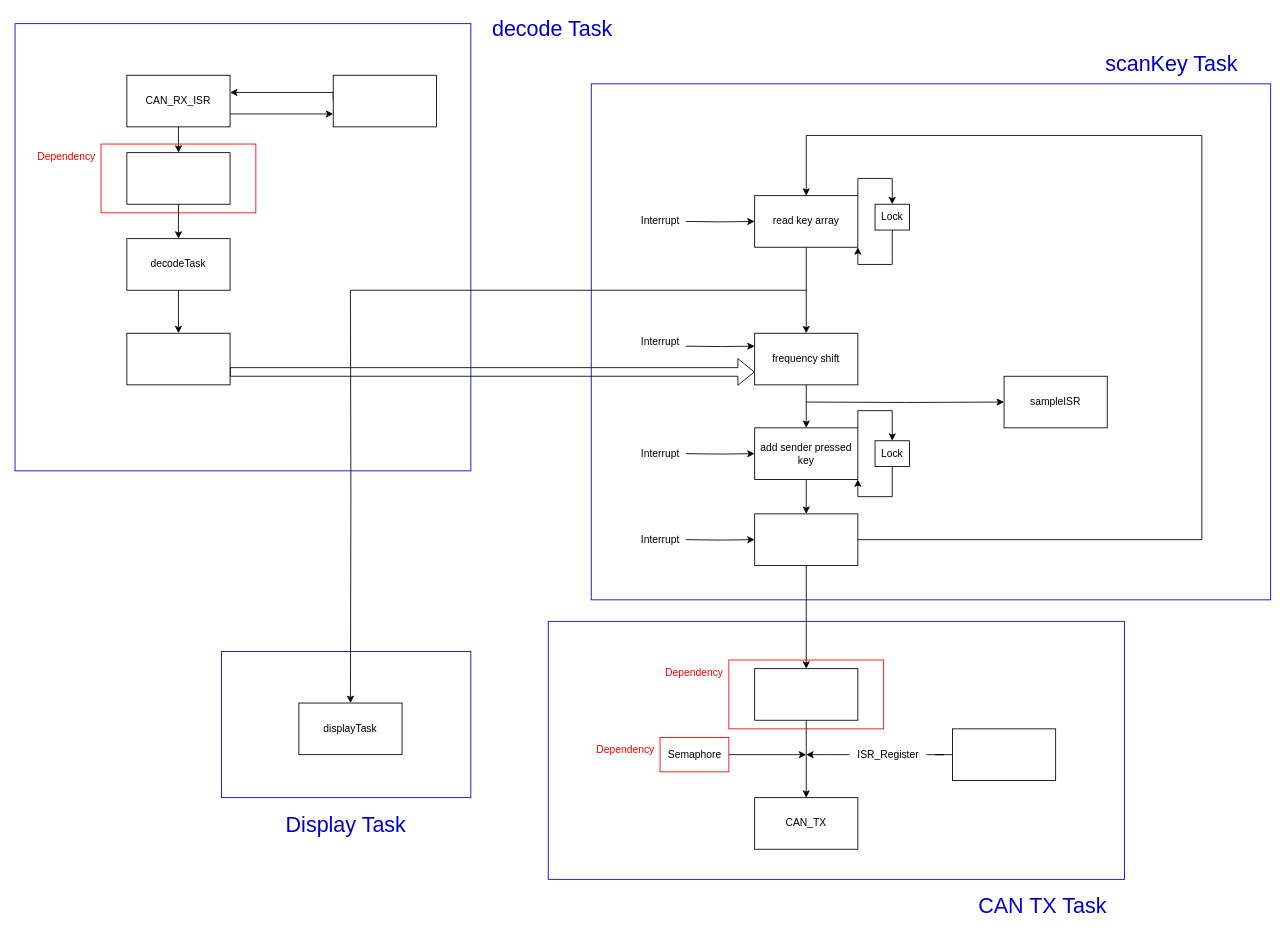
This 1286x932 diagram has some shape labels left out. Here are the shapes that lost their labels. From the top down, the centre of each, then its label:
the point at 384,100: CAN_RX
the point at 178,178: queue blocking
the point at 178,358: update RX message
the point at 806,539: queue to next board/key info
the point at 806,694: queue
the point at 1004,754: CAN_TX_ISR
